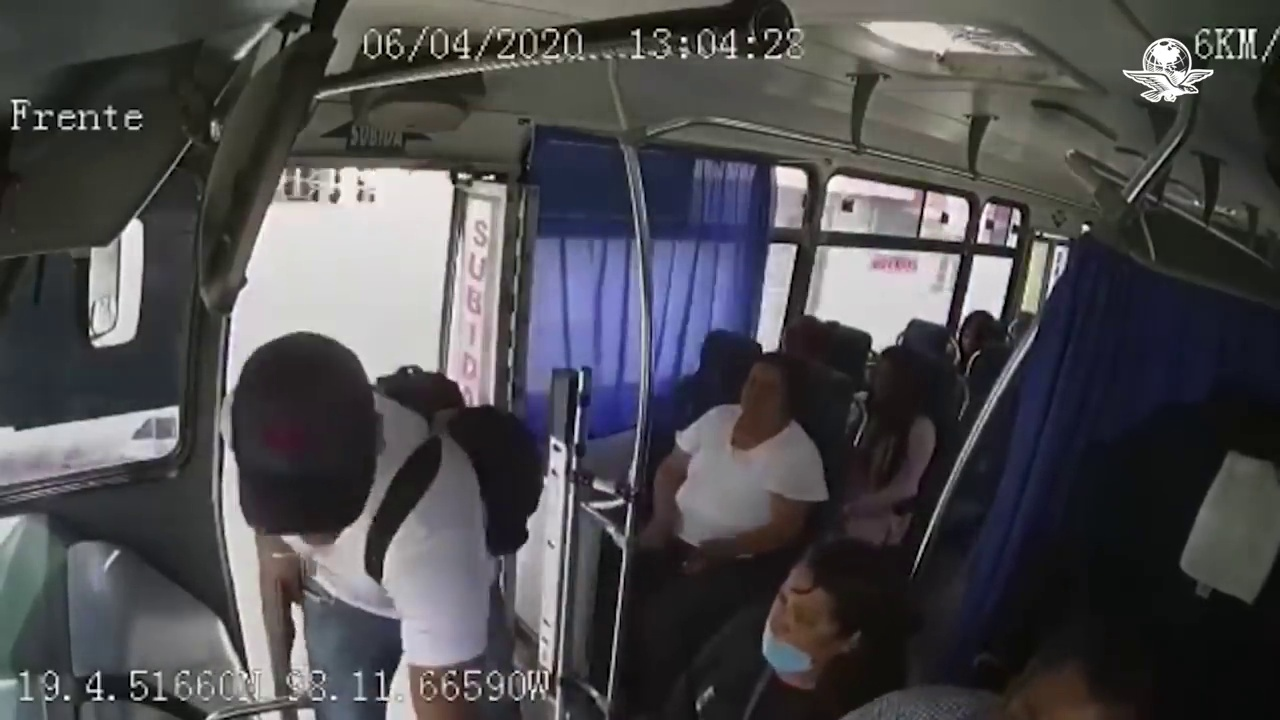pistol: (269, 571, 300, 670)
